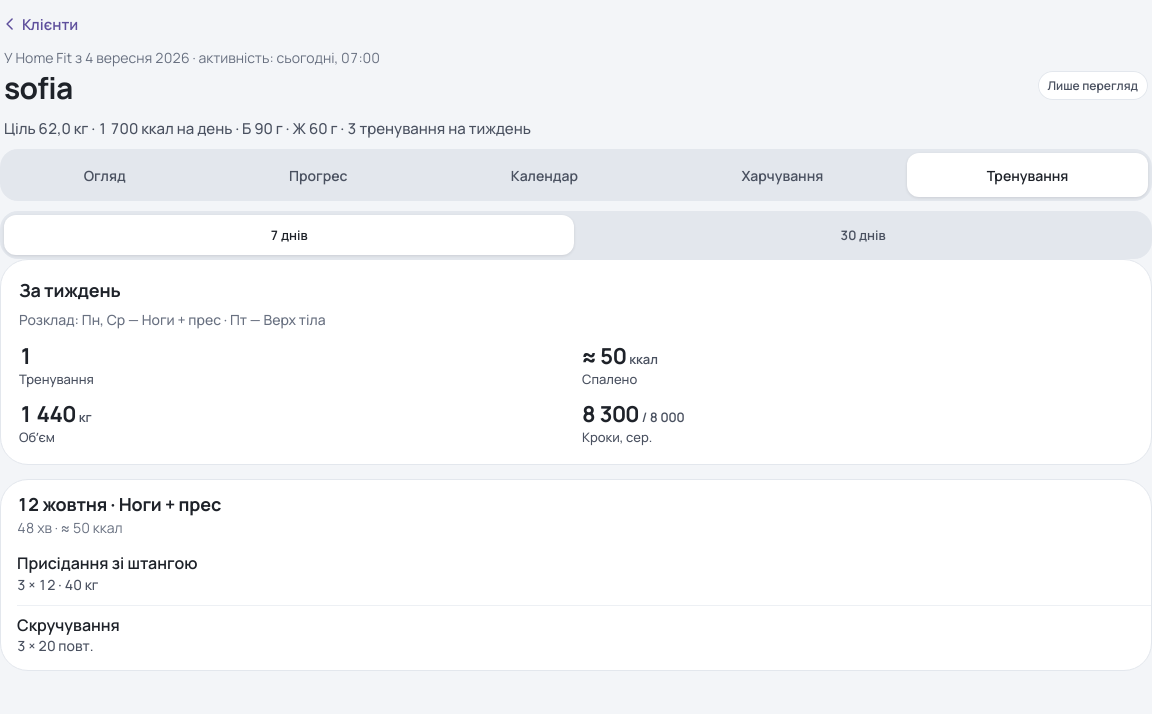
Scenario: ClientScreen panels › «Тренування»: the schedule, the strip and the sessions with their sets, with the 7 / 30 switch — read-only
The image size is (1152, 714).
Expected: the element "За тиждень" shows "Розклад: Пн, Ср — Ноги + прес · Пт — Верх тіла", [19, 310, 326, 329]
Expected: the element "9 жовтня · Верх тіла" is not shown
Click the radio button labelled "30 днів". click: x=863, y=235
box: [578, 215, 1148, 255]
(page scrolled)
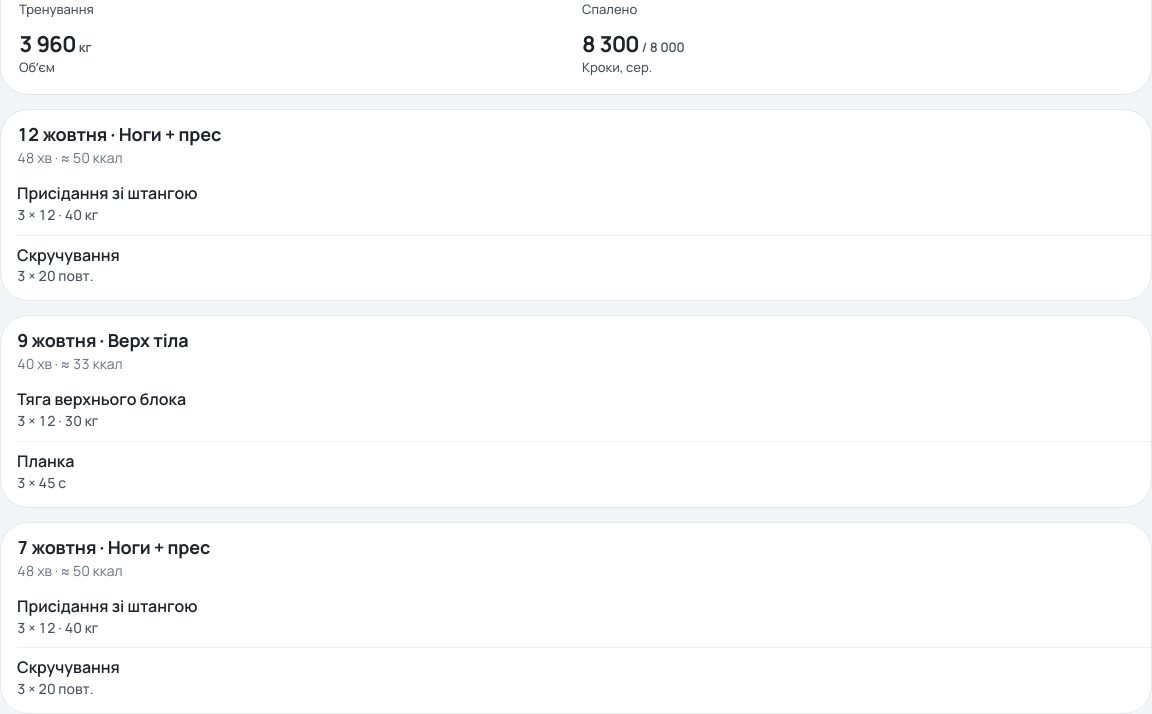
Now the element "9 жовтня · Верх тіла" is shown, box [0, 315, 1151, 508]
Now the element "7 жовтня · Ноги + прес" is shown, box [0, 522, 1151, 713]
